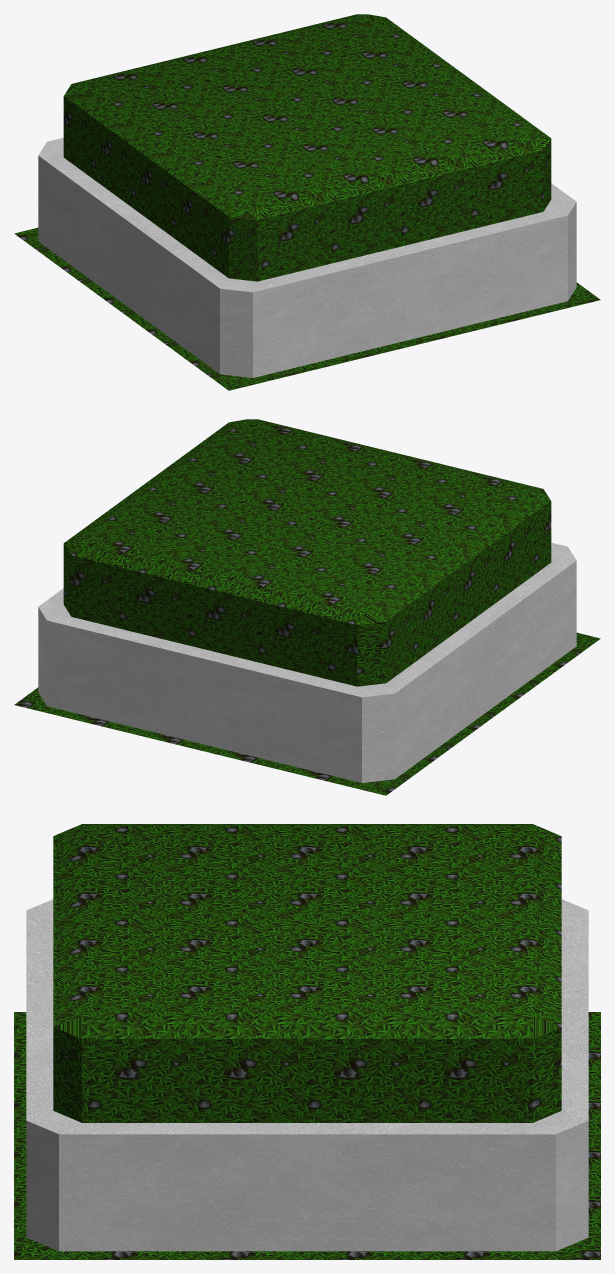
The model's file is GrassyCube.fbx.
3 renders of one model, top to bottom at view 1: azimuth 30°, elevation 25°; view 2: azimuth 150°, elevation 25°; view 3: azimuth 270°, elevation 25°, orthographic. The views are drawn at different scales.
Parts seen in each view (by area): view 1: GrassyCube; view 2: GrassyCube; view 3: GrassyCube.
Part boxes in pixels (left/top/right/bottom): GrassyCube: left=14, top=14, right=600, bottom=390; GrassyCube: left=14, top=419, right=600, bottom=795; GrassyCube: left=14, top=824, right=600, bottom=1259.
Size of the model in its own units: 5 by 2.02 by 5.
